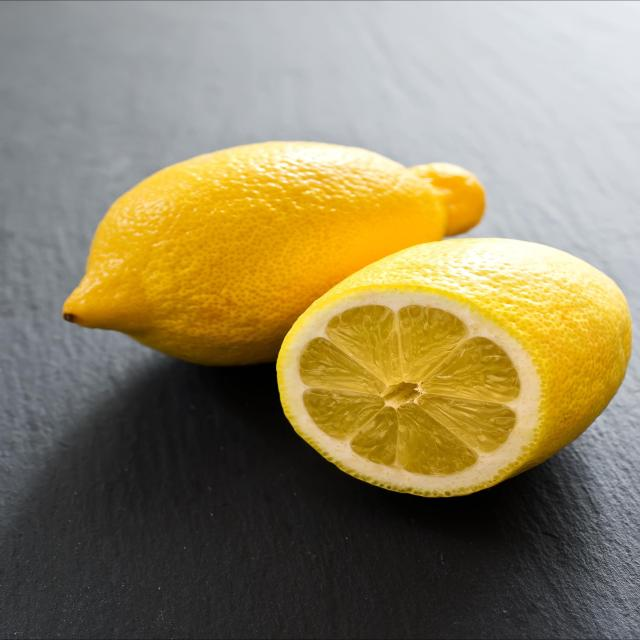lemon: (271, 233, 640, 501)
